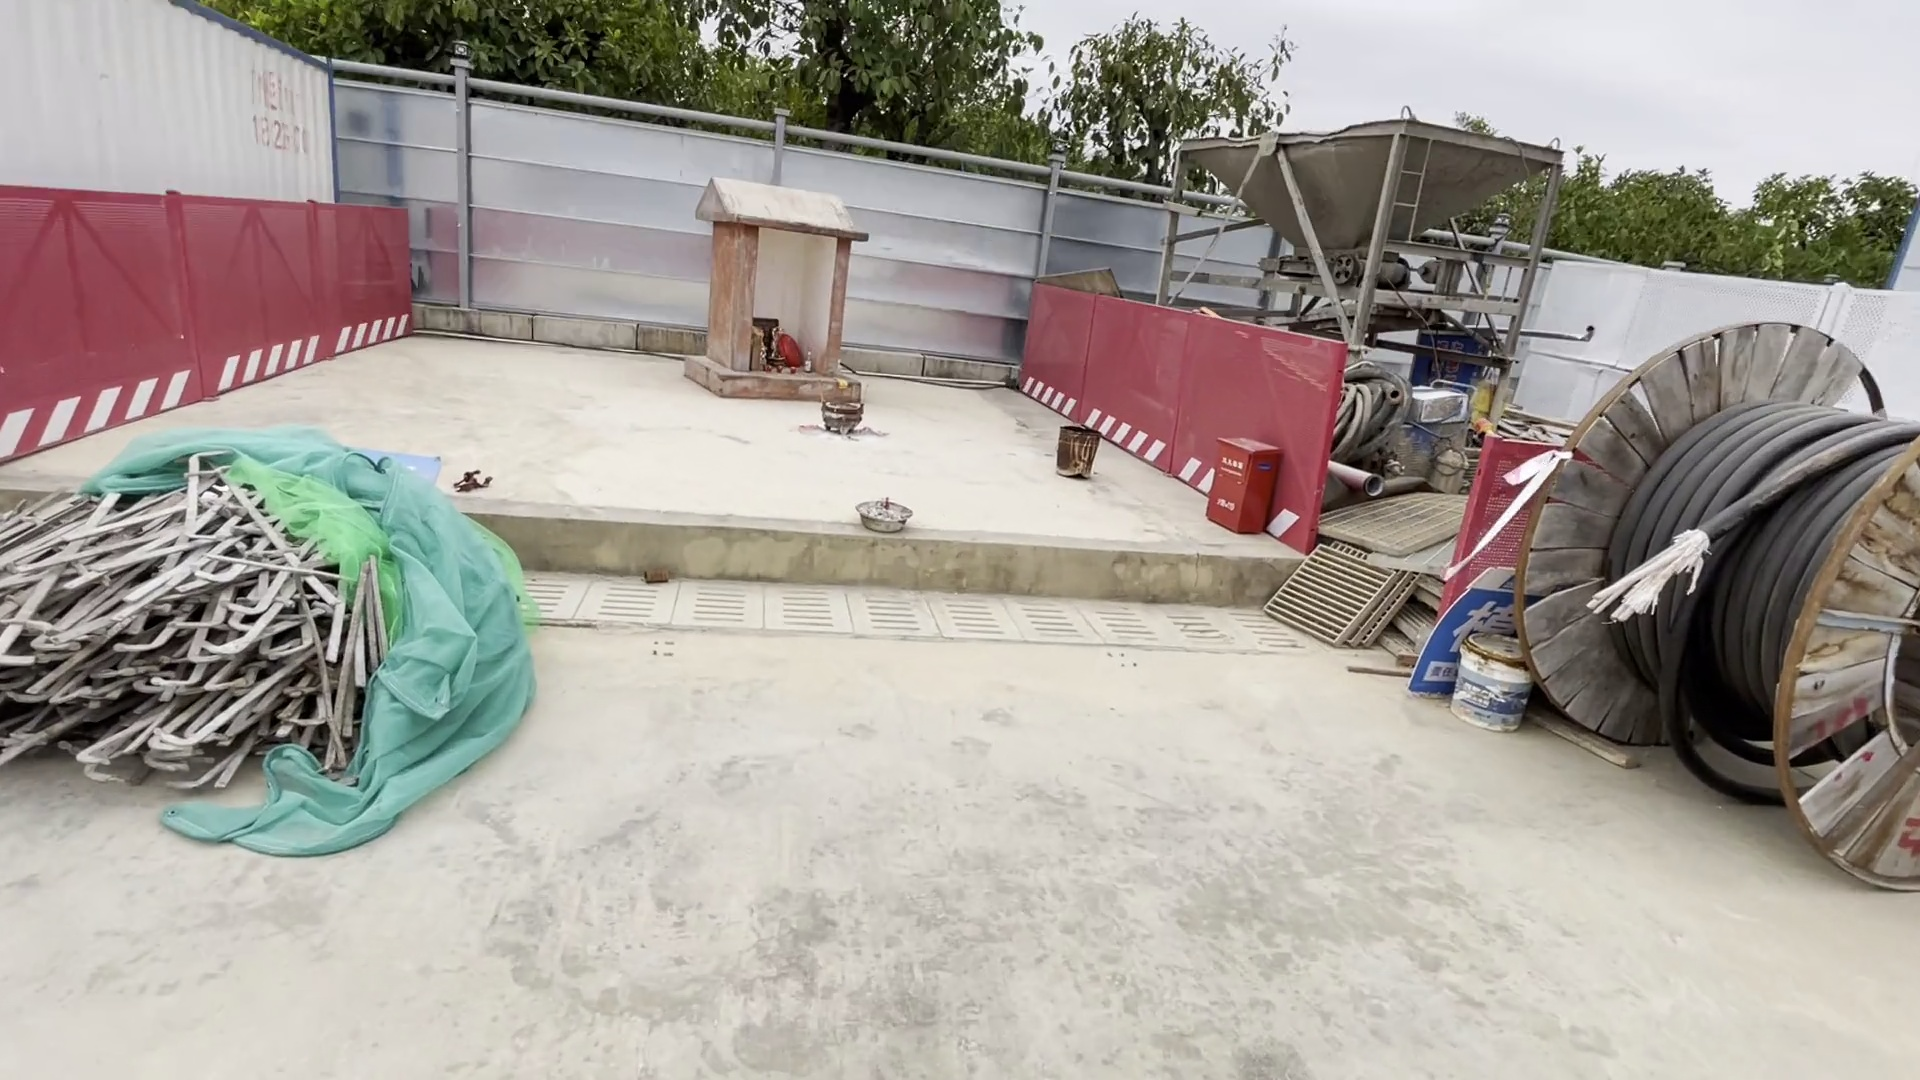fence: (11, 170, 419, 481), (1019, 264, 1360, 585)
